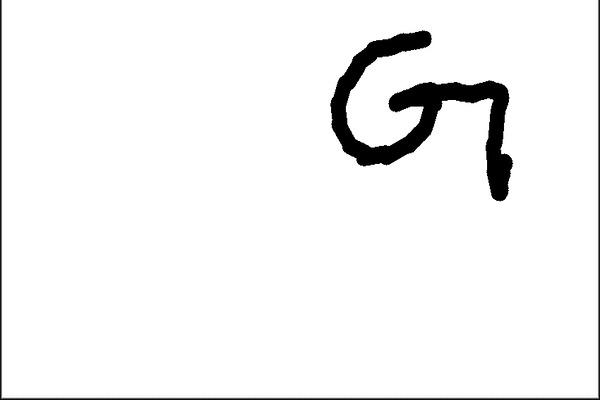G: (325, 27, 518, 204)
